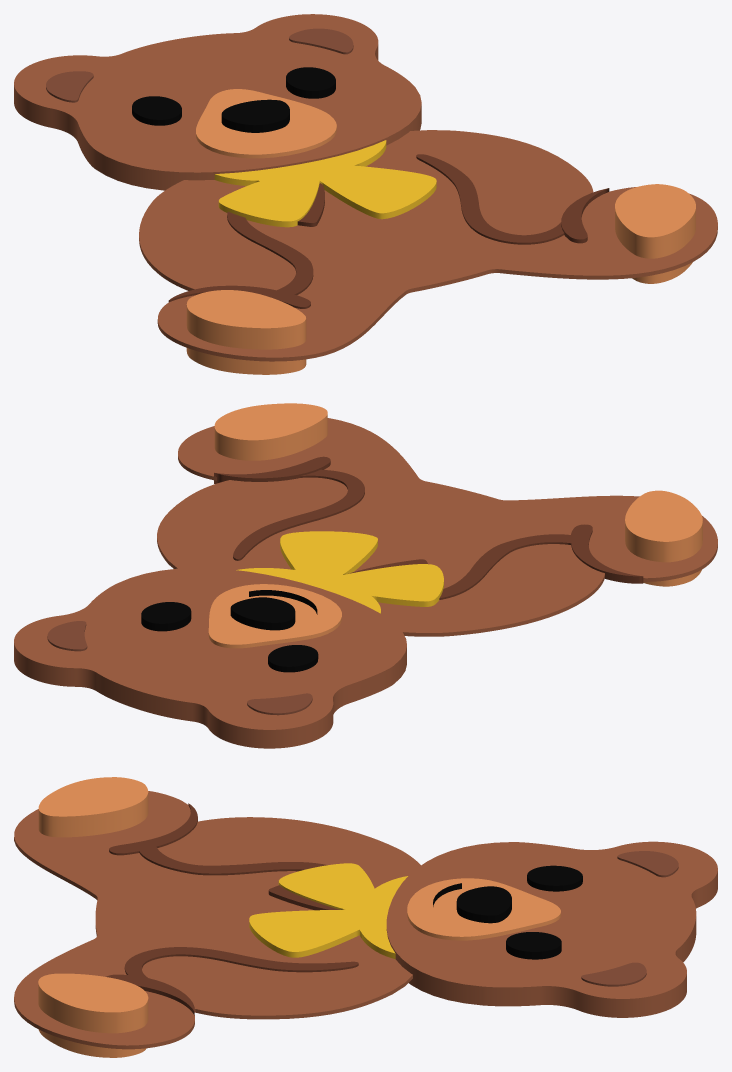
Rendered from emoji_u1f9f8.glb.
3 views of the same model, one above another, from view 1: azimuth 30°, elevation 25°; view 2: azimuth 150°, elevation 25°; view 3: azimuth 270°, elevation 25° (orthographic). The views are drawn at different scales.
Visible parts, largest first — view 1: emoji_u1f9f8; view 2: emoji_u1f9f8; view 3: emoji_u1f9f8.
Part boxes in pixels (x1,y1,x2,y2): emoji_u1f9f8: (14,14,717,374); emoji_u1f9f8: (14,403,717,748); emoji_u1f9f8: (14,777,717,1057).
Bounding box in the file's own units: 0.029 × 0.0024 × 0.0337.
